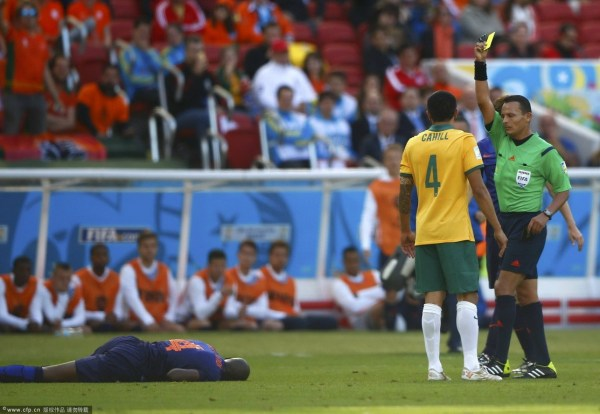10+: (2, 2, 585, 384)
down: (1, 326, 256, 386)
